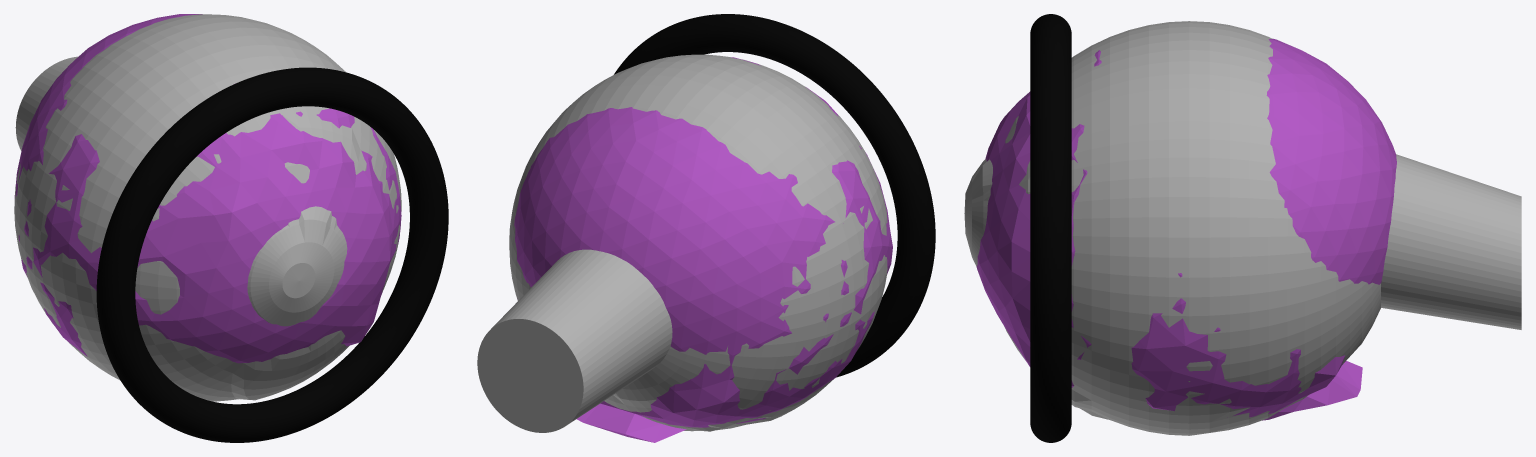
The model's file is C0_DEFORM_GROW.glb.
3 views of the same model, side by side, from view 1: azimuth 30°, elevation 25°; view 2: azimuth 150°, elevation 25°; view 3: azimuth 270°, elevation 25° (orthographic). The views are drawn at different scales.
Parts seen in each view (by area): view 1: GT_EVALUATION_ONLY, C0_DEFORM_GROW, Ring_CAD; view 2: GT_EVALUATION_ONLY, C0_DEFORM_GROW, Ring_CAD; view 3: GT_EVALUATION_ONLY, C0_DEFORM_GROW, Ring_CAD.
Part boxes in pixels (x1,y1,x2,y2): GT_EVALUATION_ONLY: (14,14,401,401); C0_DEFORM_GROW: (14,14,401,363); Ring_CAD: (96,67,448,442); GT_EVALUATION_ONLY: (477,54,887,432); C0_DEFORM_GROW: (514,57,892,442); Ring_CAD: (614,14,935,377); GT_EVALUATION_ONLY: (964,21,1521,435); C0_DEFORM_GROW: (976,38,1396,420); Ring_CAD: (1030,14,1071,442).
Size of the model in its own units: 0.0124 by 0.0124 by 0.0161.
